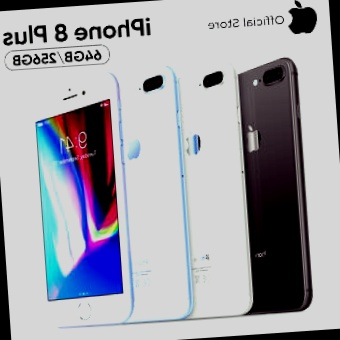iphone: (204, 76, 305, 333)
